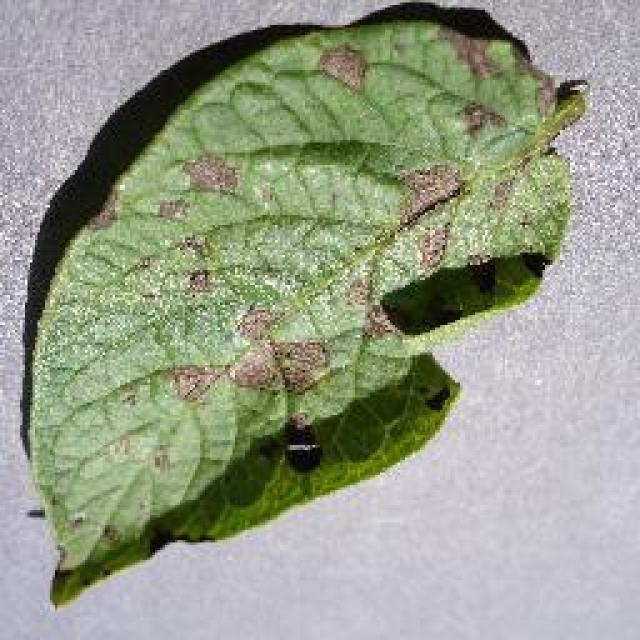Potato___Early_blight: (21, 15, 594, 616)
